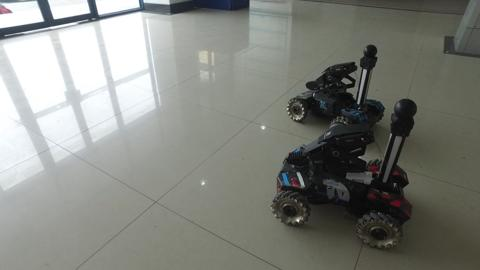chariot: (267, 94, 429, 259), (288, 39, 387, 133)
